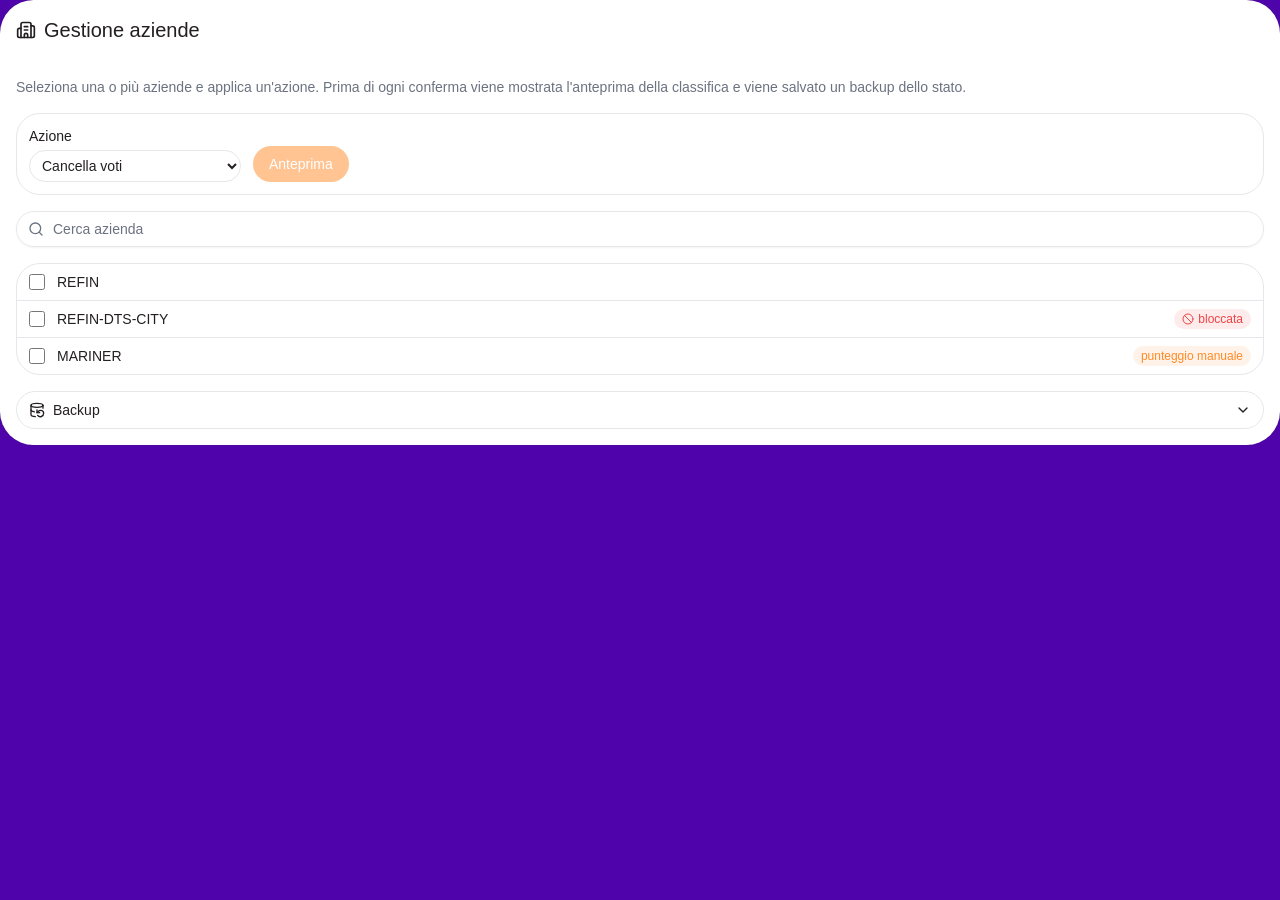
Test case: CompanyActionsCard › Anteprima chiama /preview e mostra la modale
Expected: the text "REFIN" is shown, [57,274,99,290]
Click the checkbox named "Seleziona REFIN" at (37, 282), box [29,274,45,290]
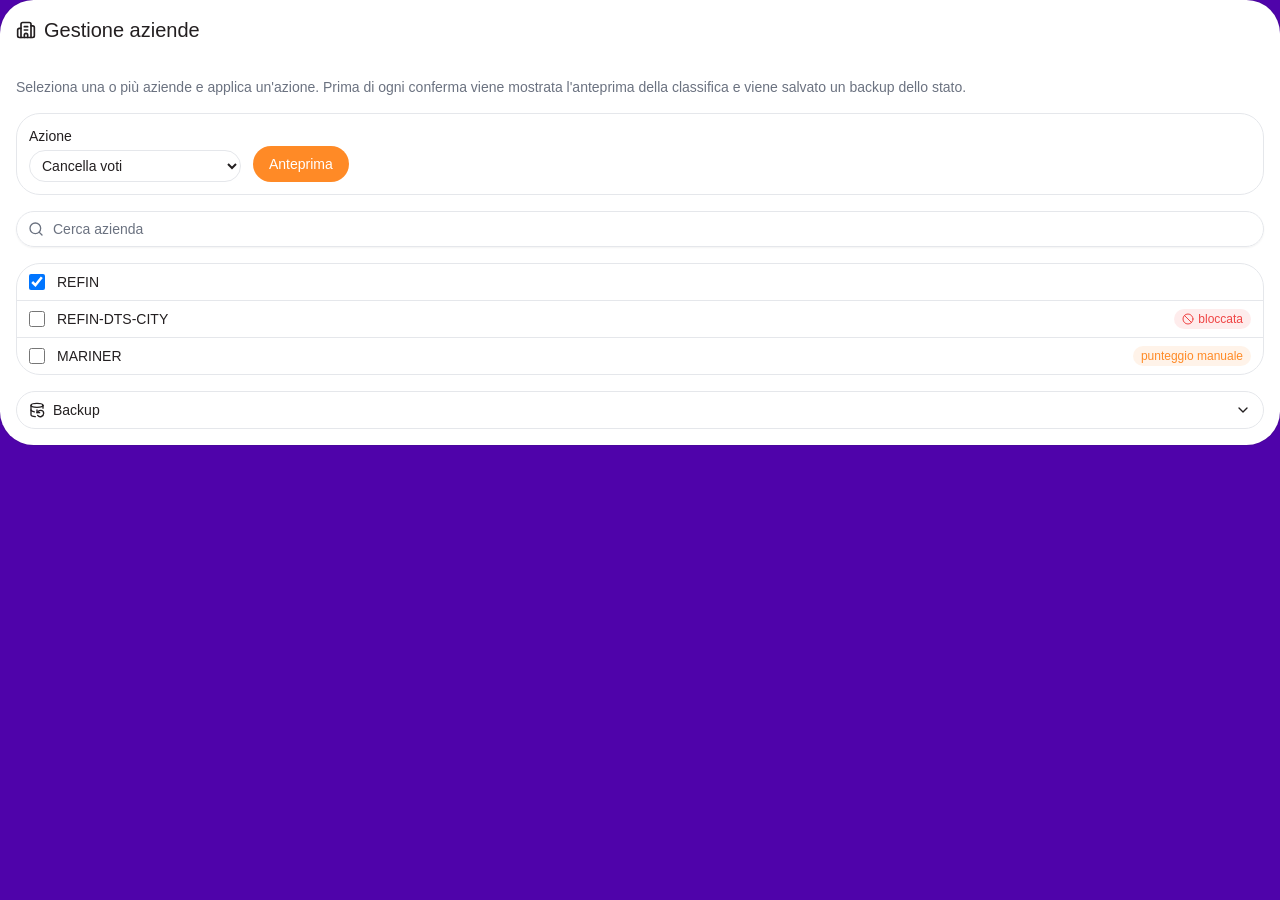
Click the button "Anteprima" at (301, 164), box [253,146,349,182]
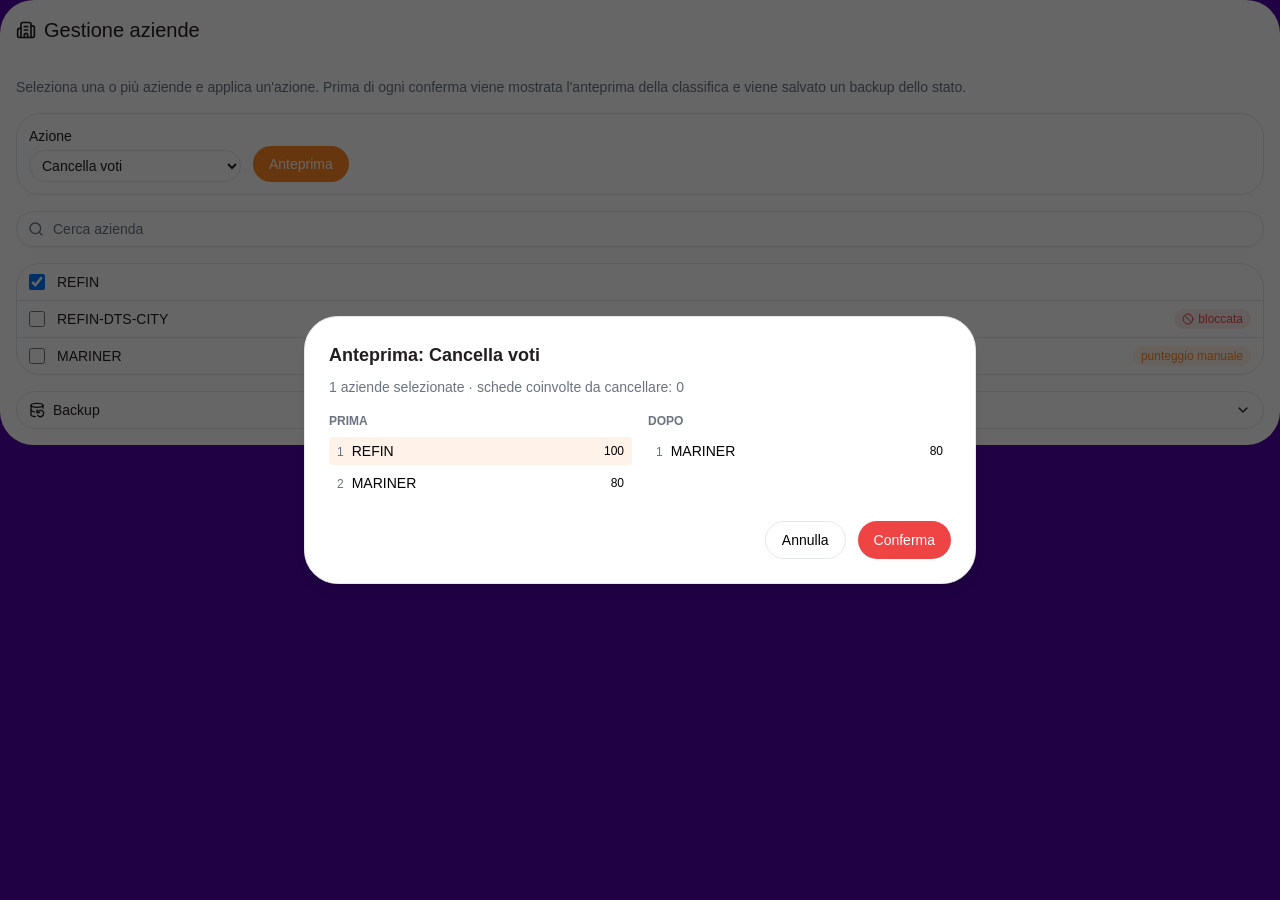
Result: the dialog shows "Cancella voti" at [429,345,540,365]
Result: the dialog shows "MARINER" at [352,475,416,491]
